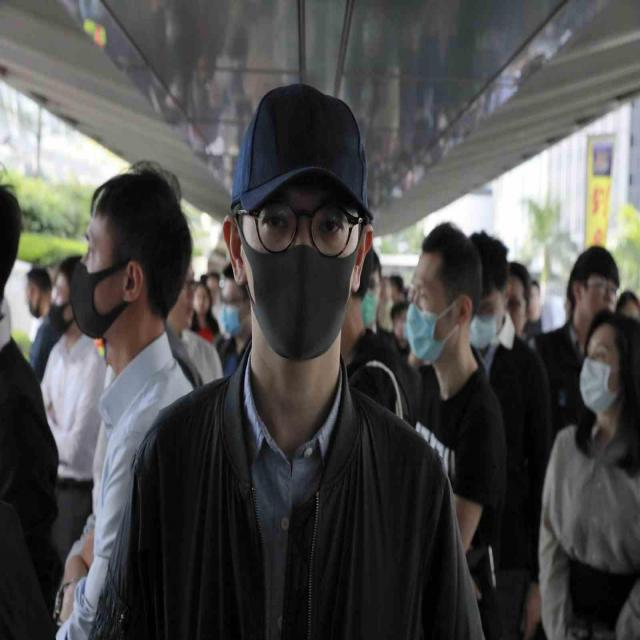face: (226, 84, 377, 366), (67, 166, 197, 353), (402, 224, 483, 364), (573, 316, 639, 428), (460, 229, 513, 352), (567, 246, 621, 326), (48, 254, 84, 332), (356, 248, 383, 328), (220, 266, 248, 338), (506, 268, 530, 331), (26, 272, 43, 318), (192, 282, 212, 317), (391, 306, 410, 342)
